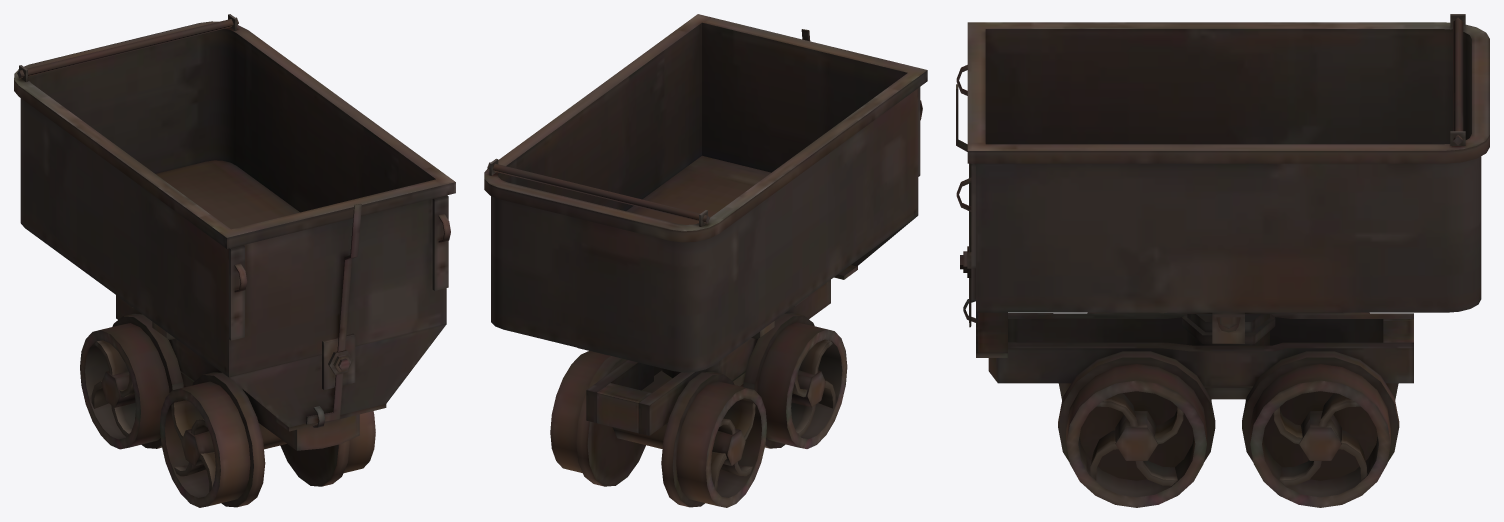
The picture shows the model from 3 angles, left to right: view 1: azimuth 30°, elevation 25°; view 2: azimuth 150°, elevation 25°; view 3: azimuth 270°, elevation 25°; orthographic projection. The views are drawn at different scales.
Parts seen in each view (by area): view 1: body0_model0_lod0_mesh0; view 2: body0_model0_lod0_mesh0; view 3: body0_model0_lod0_mesh0.
Boxes of the visible parts, left/top/right/bottom form: body0_model0_lod0_mesh0: left=14, top=14, right=455, bottom=507; body0_model0_lod0_mesh0: left=484, top=14, right=927, bottom=507; body0_model0_lod0_mesh0: left=956, top=14, right=1489, bottom=507.
Size of the model in its own units: 47.31 by 68.32 by 83.08.
1 material, 1 textured.
